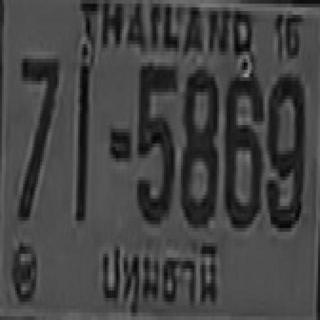N01: (74, 61, 88, 219), (75, 61, 89, 219)
N05: (135, 62, 175, 221)
N06: (223, 70, 261, 224)
N07: (17, 55, 57, 217)
N08: (179, 66, 217, 224)
N09: (265, 74, 303, 228)
P38: (94, 234, 222, 320)
